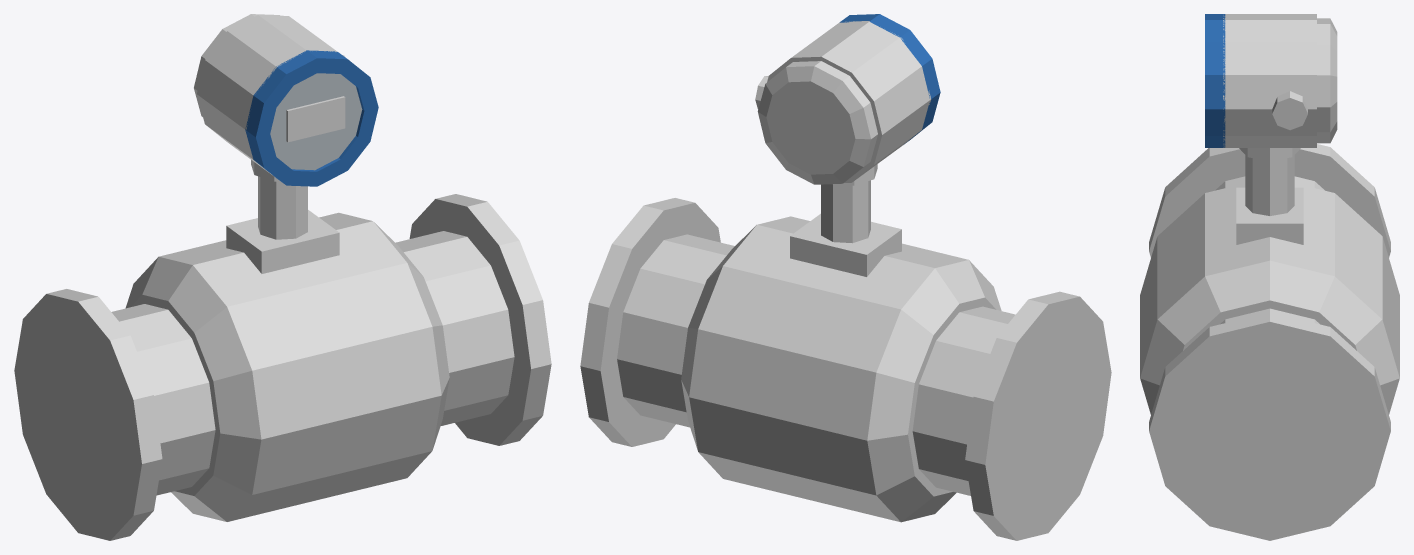
File: flowmeter-mag.glb
3 views of the same model, side by side, from view 1: azimuth 30°, elevation 25°; view 2: azimuth 150°, elevation 25°; view 3: azimuth 270°, elevation 25° (orthographic). The views are drawn at different scales.
Parts seen in each view (by area): view 1: coil.housing, in.flange, out.stub, out.flange, in.stub, housing, display.bezel, display.face, neck.seat, neck, display.window; view 2: coil.housing, in.flange, out.stub, out.flange, rear.cover, in.stub, housing, neck.seat, neck, display.bezel; view 3: out.flange, coil.housing, housing, in.flange, display.bezel, neck, rear.cover, neck.seat, cable.gland, neck.collar, out.stub, in.stub.
Boxes of the visible parts, <box> form: coil.housing: <box>125,212,449,521</box>; in.flange: <box>14,289,162,540</box>; out.stub: <box>395,231,514,425</box>; out.flange: <box>409,194,551,445</box>; in.stub: <box>111,304,215,495</box>; housing: <box>196,15,337,175</box>; display.bezel: <box>245,50,378,186</box>; display.face: <box>270,73,362,170</box>; neck.seat: <box>226,210,339,273</box>; neck: <box>258,176,307,239</box>; display.window: <box>286,96,345,142</box>; coil.housing: <box>681,216,1001,522</box>; in.flange: <box>965,291,1111,540</box>; out.stub: <box>617,234,734,427</box>; out.flange: <box>580,198,720,446</box>; rear.cover: <box>757,61,877,184</box>; in.stub: <box>912,306,1015,495</box>; housing: <box>767,21,931,182</box>; neck.seat: <box>790,213,901,276</box>; neck: <box>821,180,870,243</box>; display.bezel: <box>839,14,940,144</box>; out.flange: <box>1149,312,1390,540</box>; coil.housing: <box>1140,183,1399,414</box>; housing: <box>1223,14,1316,147</box>; in.flange: <box>1149,144,1390,257</box>; display.bezel: <box>1205,14,1225,147</box>; neck: <box>1245,155,1294,215</box>; rear.cover: <box>1317,18,1337,143</box>; neck.seat: <box>1236,187,1303,244</box>; cable.gland: <box>1272,91,1307,130</box>; neck.collar: <box>1239,148,1300,160</box>; out.stub: <box>1220,308,1319,324</box>; in.stub: <box>1215,176,1324,190</box>.
Bounding box in the file's own units: 1 × 1.07 × 0.58.
